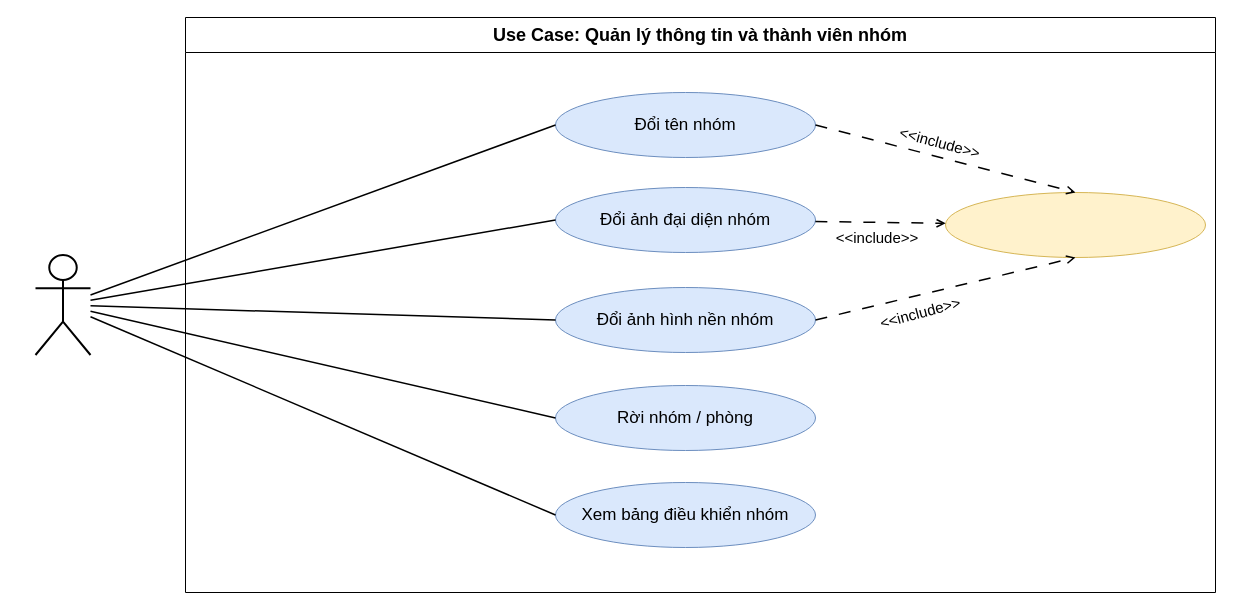
The diagram is 1233 pixels wide and 610 high, and some of its shapes have lost their labels. Here are the shapes that lost their labels. From the top down, the centre of each, then its label:
point 1075,225: Cập nhật thông tin phòng chat
point 62,305: Người dùng
